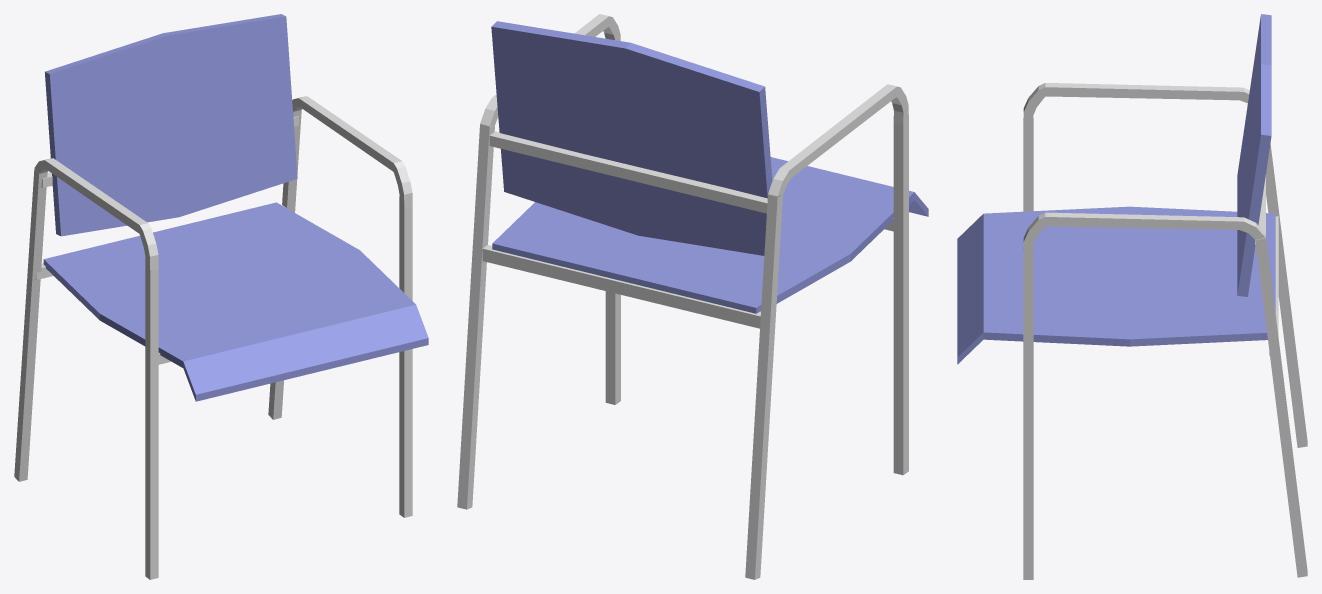
The model's file is small_chair.fbx.
3 renders of one model, left to right at view 1: azimuth 30°, elevation 25°; view 2: azimuth 150°, elevation 25°; view 3: azimuth 270°, elevation 25°, orthographic. The views are drawn at different scales.
Parts seen in each view (by area): view 1: Cube.001, Cube.003, Cube; view 2: Cube.003, Cube, Cube.001, Cube.002; view 3: Cube.001, Cube, Cube.003.
Part boxes in pixels (x1=…): Cube.001: x1=43, y1=202, x2=428, y2=401; Cube.003: x1=45, y1=14, x2=297, y2=236; Cube: x1=14, y1=96, x2=412, y2=579; Cube.003: x1=491, y1=21, x2=772, y2=255; Cube: x1=457, y1=14, x2=908, y2=579; Cube.001: x1=492, y1=157, x2=928, y2=313; Cube.002: x1=489, y1=131, x2=767, y2=213; Cube.001: x1=957, y1=206, x2=1275, y2=364; Cube: x1=1023, y1=83, x2=1307, y2=579; Cube.003: x1=1237, y1=14, x2=1271, y2=296.
Bounding box in the file's own units: 297 × 464 × 328.
